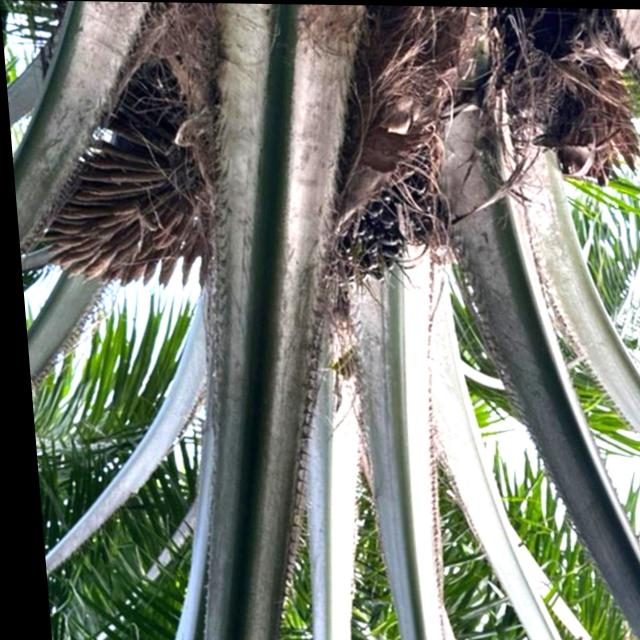almost: (309, 101, 461, 298)
